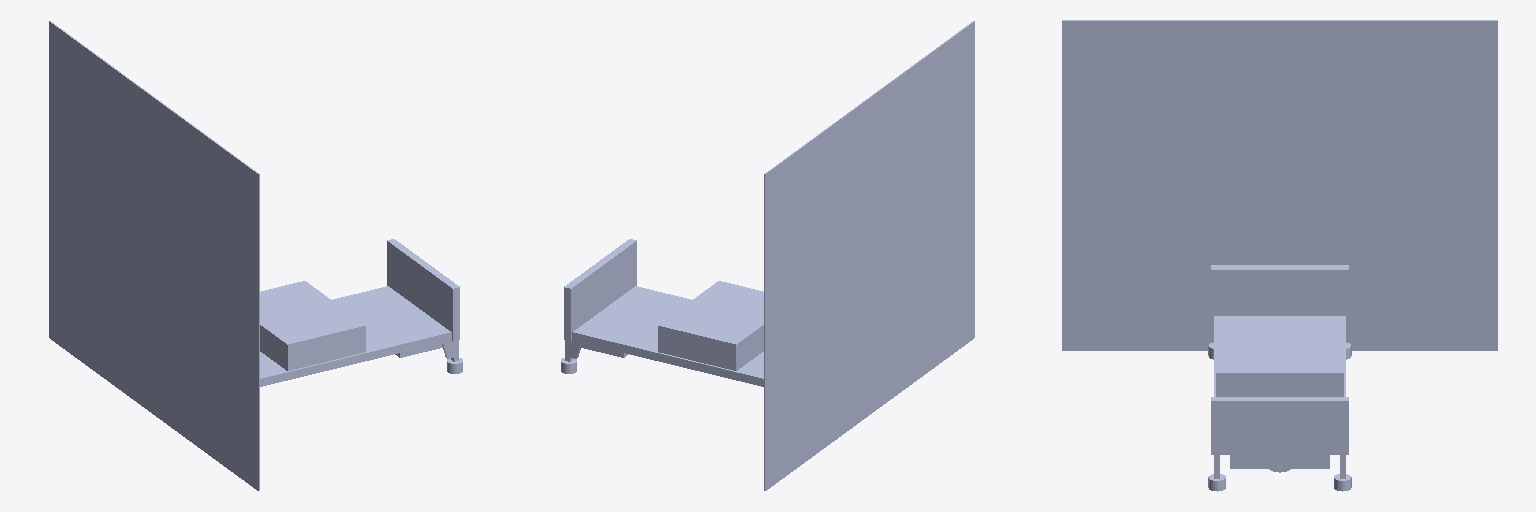
The robot description file, URDF, robot "autobed_simulation_withbody_normal":
<robot
  name="autobed_simulation_withbody_normal">
  <link
    name="base_link">
    <inertial>
      <origin
        xyz="1.07 3.41318994679704E-16 0.0955223671928148"
        rpy="0 0 0" />
      <mass
        value="4.87911473693544" />
      <inertia
        ixx="0.908453350878167"
        ixy="-1.4432899320127E-15"
        ixz="1.44902222679625E-15"
        iyy="5.58609846231739"
        iyz="6.42783551354056E-16"
        izz="6.49455181319556" />
    </inertial>
    <visual>
      <origin
        xyz="0 0 0"
        rpy="0 0 0" />
      <geometry>
        <mesh
          filename="package://autobed_simulation_withbody_normal/meshes/base_link.STL" />
      </geometry>
      <material
        name="">
        <color
          rgba="0.792156862745098 0.819607843137255 0.933333333333333 1" />
      </material>
    </visual>
    <collision>
      <origin
        xyz="0 0 0"
        rpy="0 0 0" />
      <geometry>
        <mesh
          filename="package://autobed_simulation_withbody_normal/meshes/base_link.STL" />
      </geometry>
    </collision>
  </link>
  <link
    name="bed_frame_link">
    <inertial>
      <origin
        xyz="1.13803002623393 -9.61255541847432E-16 0.0205474290601526"
        rpy="0 0 0" />
      <mass
        value="260.628872094939" />
      <inertia
        ixx="0.457210122407708"
        ixy="-1.23643446491761E-14"
        ixz="1.09916586450599"
        iyy="3.099683546515"
        iyz="5.14308505484892E-15"
        izz="2.64247342410729" />
    </inertial>
    <visual>
      <origin
        xyz="0 0 0"
        rpy="0 0 0" />
      <geometry>
        <mesh
          filename="package://autobed_simulation_withbody_normal/meshes/bed_frame_link.STL" />
      </geometry>
      <material
        name="">
        <color
          rgba="0.792156862745098 0.819607843137255 0.933333333333333 1" />
      </material>
    </visual>
    <collision>
      <origin
        xyz="0 0 0"
        rpy="0 0 0" />
      <geometry>
        <mesh
          filename="package://autobed_simulation_withbody_normal/meshes/bed_frame_link.STL" />
      </geometry>
    </collision>
  </link>
  <joint
    name="tele_legs_joint"
    type="prismatic">
    <origin
      xyz="-0.0400000000000005 0 0.320000000000001"
      rpy="0 0 0" />
    <parent
      link="base_link" />
    <child
      link="bed_frame_link" />
    <axis
      xyz="0 1 0" />
  </joint>
  <link
    name="leg_rest_upper">
    <inertial>
      <origin
        xyz="0.185000000000001 0.104999999999997 -7.98241372751238E-16"
        rpy="0 0 0" />
      <mass
        value="67.9875000000001" />
      <inertia
        ixx="0"
        ixy="0"
        ixz="0"
        iyy="0"
        iyz="0"
        izz="0" />
    </inertial>
    <visual>
      <origin
        xyz="0 0 0"
        rpy="0 0 0" />
      <geometry>
        <mesh
          filename="package://autobed_simulation_withbody_normal/meshes/leg_rest_upper.STL" />
      </geometry>
      <material
        name="">
        <color
          rgba="0.792156862745098 0.819607843137255 0.933333333333333 1" />
      </material>
    </visual>
    <collision>
      <origin
        xyz="0 0 0"
        rpy="0 0 0" />
      <geometry>
        <mesh
          filename="package://autobed_simulation_withbody_normal/meshes/leg_rest_upper.STL" />
      </geometry>
    </collision>
  </link>
  <joint
    name="leg_rest_upper_hinge"
    type="revolute">
    <origin
      xyz="1.075 0 0"
      rpy="1.5707963267949 -1.84377299293392E-16 7.65430446472183E-16" />
    <parent
      link="bed_frame_link" />
    <child
      link="leg_rest_upper" />
    <axis
      xyz="0 0 -1" />
  </joint>
  <link
    name="leg_rest_lower">
    <inertial>
      <origin
        xyz="0.325 0.105 -3.00111945743508E-16"
        rpy="0 0 0" />
      <mass
        value="119.4375" />
      <inertia
        ixx="0"
        ixy="0"
        ixz="0"
        iyy="0"
        iyz="0"
        izz="0" />
    </inertial>
    <visual>
      <origin
        xyz="0 0 0"
        rpy="0 0 0" />
      <geometry>
        <mesh
          filename="package://autobed_simulation_withbody_normal/meshes/leg_rest_lower.STL" />
      </geometry>
      <material
        name="">
        <color
          rgba="0.792156862745098 0.819607843137255 0.933333333333333 1" />
      </material>
    </visual>
    <collision>
      <origin
        xyz="0 0 0"
        rpy="0 0 0" />
      <geometry>
        <mesh
          filename="package://autobed_simulation_withbody_normal/meshes/leg_rest_lower.STL" />
      </geometry>
    </collision>
  </link>
  <joint
    name="leg_rest_lower_hinge"
    type="revolute">
    <origin
      xyz="0.370000000000001 0 0"
      rpy="8.46545056276682E-16 -2.4743657509036E-16 -1.8315782125782E-16" />
    <parent
      link="leg_rest_upper" />
    <child
      link="leg_rest_lower" />
    <axis
      xyz="0 0 -1" />
  </joint>
  <link
    name="head_rest_link">
    <inertial>
      <origin
        xyz="0.347706610619294 0.119461080972176 7.18320301571672E-17"
        rpy="0 0 0" />
      <mass
        value="140.777224765126" />
      <inertia
        ixx="0"
        ixy="0"
        ixz="0"
        iyy="0"
        iyz="0"
        izz="0" />
    </inertial>
    <visual>
      <origin
        xyz="0 0 0"
        rpy="0 0 0" />
      <geometry>
        <mesh
          filename="package://autobed_simulation_withbody_normal/meshes/head_rest_link.STL" />
      </geometry>
      <material
        name="">
        <color
          rgba="0.792156862745098 0.819607843137255 0.933333333333333 1" />
      </material>
    </visual>
    <collision>
      <origin
        xyz="0 0 0"
        rpy="0 0 0" />
      <geometry>
        <mesh
          filename="package://autobed_simulation_withbody_normal/meshes/head_rest_link.STL" />
      </geometry>
    </collision>
  </link>
  <joint
    name="head_rest_hinge"
    type="revolute">
    <origin
      xyz="0.795 0 0"
      rpy="1.5707963267949 2.84158644671567E-16 -3.14159265358979" />
    <parent
      link="bed_frame_link" />
    <child
      link="head_rest_link" />
    <axis
      xyz="0 0 1" />
  </joint>
  <link
    name="wall_link">
    <inertial>
      <origin
        xyz="-0.743896617818673 0.0269530666641218 0.648196106542823"
        rpy="0 0 0" />
      <mass
        value="74.9999999999973" />
      <inertia
        ixx="0"
        ixy="0"
        ixz="0"
        iyy="0"
        iyz="0"
        izz="0" />
    </inertial>
    <visual>
      <origin
        xyz="0 0 0"
        rpy="0 0 0" />
      <geometry>
        <mesh
          filename="package://autobed_simulation_withbody_normal/meshes/wall_link.STL" />
      </geometry>
      <material
        name="">
        <color
          rgba="0.792156862745098 0.819607843137255 0.933333333333333 1" />
      </material>
    </visual>
    <collision>
      <origin
        xyz="0 0 0"
        rpy="0 0 0" />
      <geometry>
        <mesh
          filename="package://autobed_simulation_withbody_normal/meshes/wall_link.STL" />
      </geometry>
    </collision>
  </link>
  <joint
    name="origin_wall_joint"
    type="prismatic">
    <origin
      xyz="0.610627419320058 -0.155260000000016 0.574890377092541"
      rpy="-0.00650994084197508 0.0370393769946504 -0.174021765425405" />
    <parent
      link="base_link" />
    <child
      link="wall_link" />
    <axis
      xyz="0.984220866265583 0.172903665695305 0.0375979892620764" />
  </joint>
</robot>

--- Facts derived from the render (not from the file) ---
Views: 3 orthographic renders of the robot side by side, from view 1: azimuth 30°, elevation 25°; view 2: azimuth 150°, elevation 25°; view 3: azimuth 270°, elevation 25°.
Model autobed_simulation_withbody_normal with 6 links and 5 joints (3 revolute, 2 prismatic), rooted at base_link, posed all joints at 0.
Visible links, largest first — view 1: wall_link, bed_frame_link, leg_rest_upper; view 2: wall_link, bed_frame_link, leg_rest_upper; view 3: wall_link, bed_frame_link, leg_rest_upper, base_link.
Boxes of the visible links, x1=… form: wall_link: x1=49, y1=21, x2=259, y2=490; bed_frame_link: x1=260, y1=239, x2=459, y2=386; leg_rest_upper: x1=261, y1=281, x2=365, y2=362; wall_link: x1=764, y1=21, x2=974, y2=490; bed_frame_link: x1=564, y1=239, x2=763, y2=386; leg_rest_upper: x1=658, y1=281, x2=762, y2=362; wall_link: x1=1062, y1=20, x2=1497, y2=350; bed_frame_link: x1=1211, y1=265, x2=1348, y2=478; leg_rest_upper: x1=1216, y1=350, x2=1343, y2=396; base_link: x1=1208, y1=342, x2=1351, y2=491.
Bounding box of the posed robot: 2.3 × 3 × 2.5 m (x, y, z).
4 mesh visuals loaded from 6 distinct referenced files (4 binary STL); not drawn: 2 (reference not matched to a file when rendering).